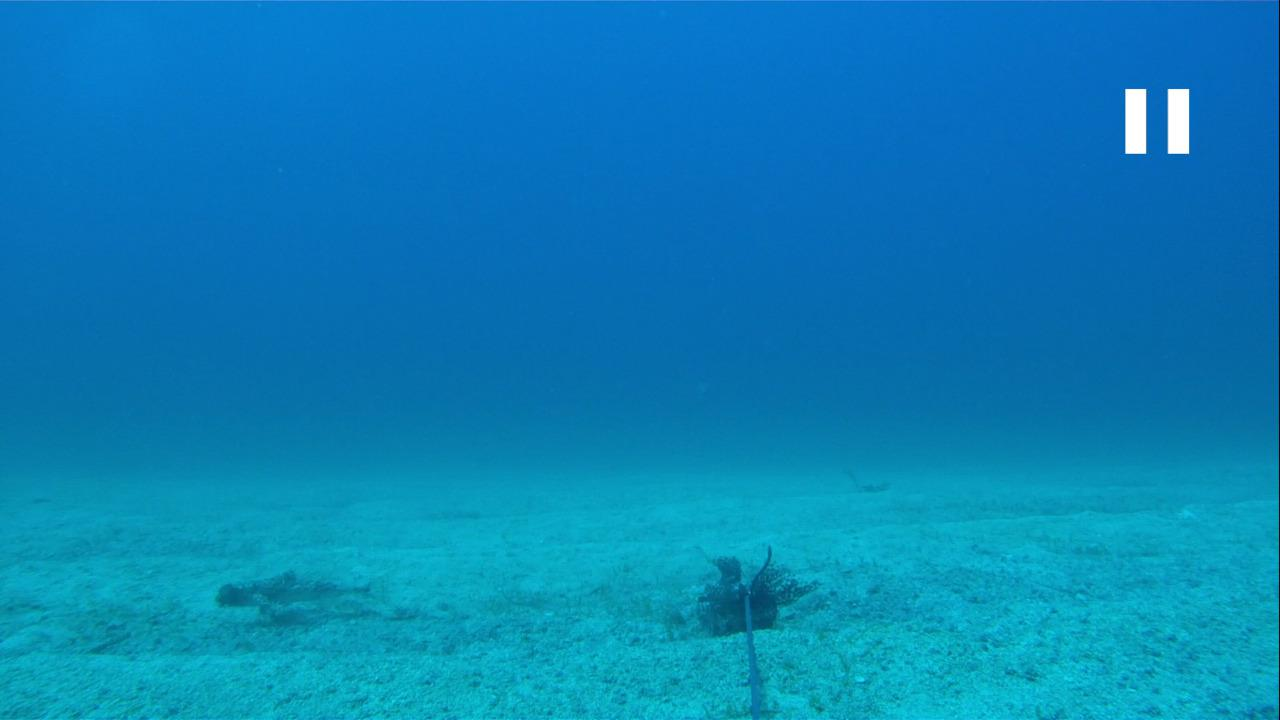dactylopterus: (209, 565, 403, 631)
